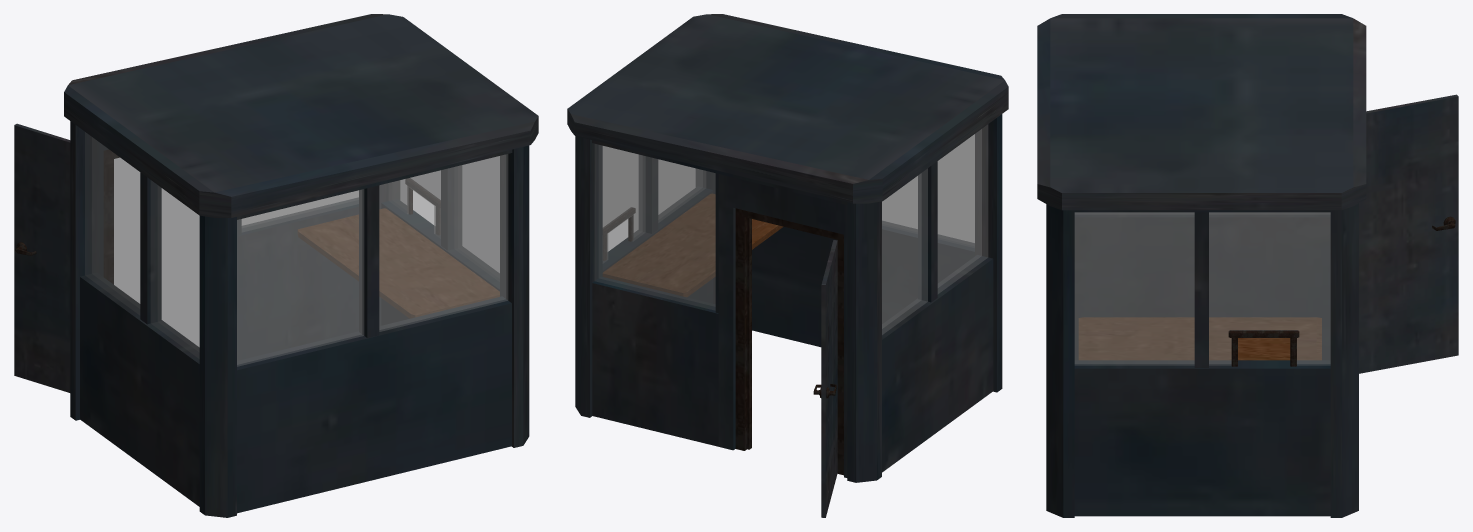
The model's file is securityparking_booth_-_game_asset-opt.glb.
The picture shows the model from 3 angles, left to right: view 1: azimuth 30°, elevation 25°; view 2: azimuth 150°, elevation 25°; view 3: azimuth 270°, elevation 25°; orthographic projection. The views are drawn at different scales.
Visible parts, largest first — view 1: Object_8, Object_5, Object_7, Object_6, Object_4; view 2: Object_8, Object_5, Object_7, Object_4, Object_6; view 3: Object_5, Object_8, Object_7, Object_6, Object_4.
Boxes of the visible parts, bbox=[...] form: Object_8: bbox=[70, 121, 529, 517]; Object_5: bbox=[14, 14, 538, 392]; Object_7: bbox=[85, 132, 507, 366]; Object_6: bbox=[298, 208, 499, 318]; Object_4: bbox=[14, 150, 440, 284]; Object_8: bbox=[575, 114, 1002, 482]; Object_5: bbox=[567, 14, 1008, 517]; Object_7: bbox=[595, 125, 987, 334]; Object_4: bbox=[603, 207, 843, 475]; Object_6: bbox=[603, 193, 783, 296]; Object_5: bbox=[1037, 14, 1458, 373]; Object_8: bbox=[1046, 203, 1358, 517]; Object_7: bbox=[1074, 212, 1330, 365]; Object_6: bbox=[1079, 317, 1321, 360]; Object_4: bbox=[1228, 216, 1455, 366].
Bounding box in the file's own units: 2.85 × 2.62 × 2.96.
5 materials, 4 textured.
